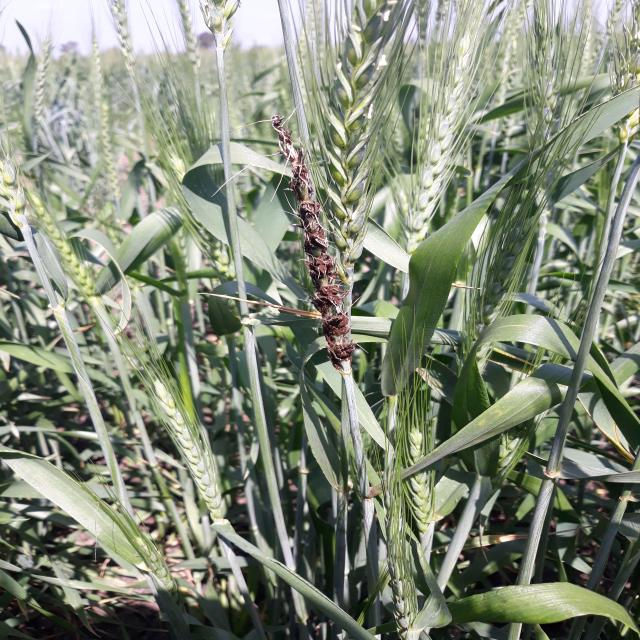healthy_wheat: (0, 147, 267, 640), (377, 330, 472, 640), (390, 26, 485, 249)
loose_charred: (262, 115, 384, 457)
